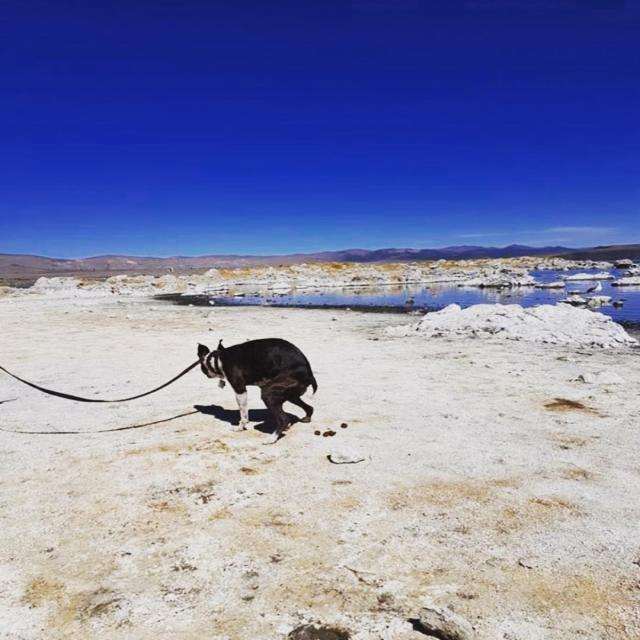squatting: (192, 329, 352, 445)
